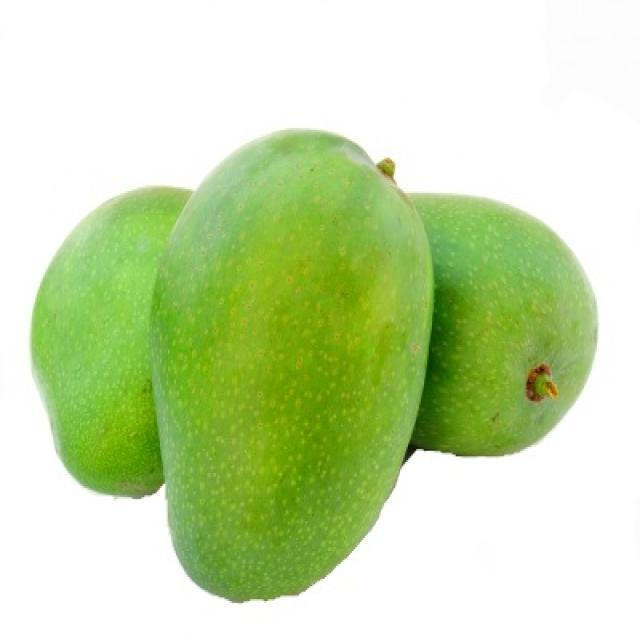Mango: (152, 123, 438, 603), (333, 186, 598, 463), (28, 187, 208, 494)
